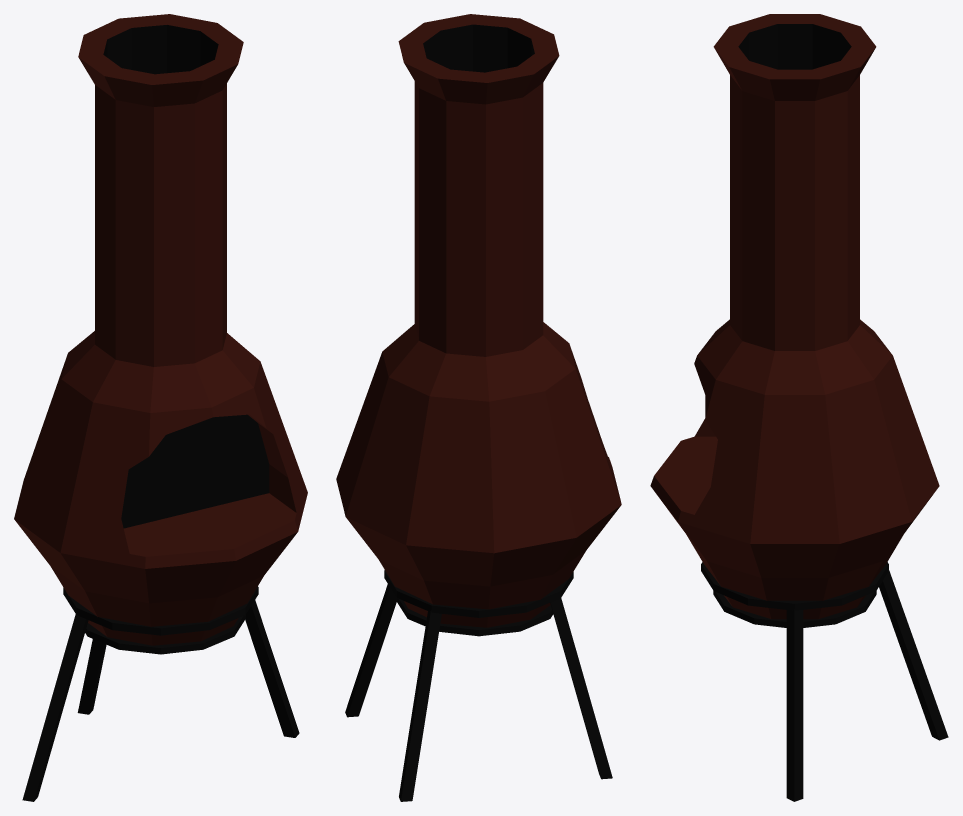
The model's file is Chiminea1.obj.
3 views of the same model, side by side, from view 1: azimuth 30°, elevation 25°; view 2: azimuth 150°, elevation 25°; view 3: azimuth 270°, elevation 25° (orthographic). The views are drawn at different scales.
Parts seen in each view (by area): view 1: Chiminea1_Cylinder.018; view 2: Chiminea1_Cylinder.018; view 3: Chiminea1_Cylinder.018.
Boxes of the visible parts, box(x1,y1,x2,y2) form: Chiminea1_Cylinder.018: box(14, 14, 307, 801); Chiminea1_Cylinder.018: box(336, 14, 621, 801); Chiminea1_Cylinder.018: box(650, 14, 948, 801).
Bounding box in the file's own units: 1.19 × 2.96 × 1.16.
